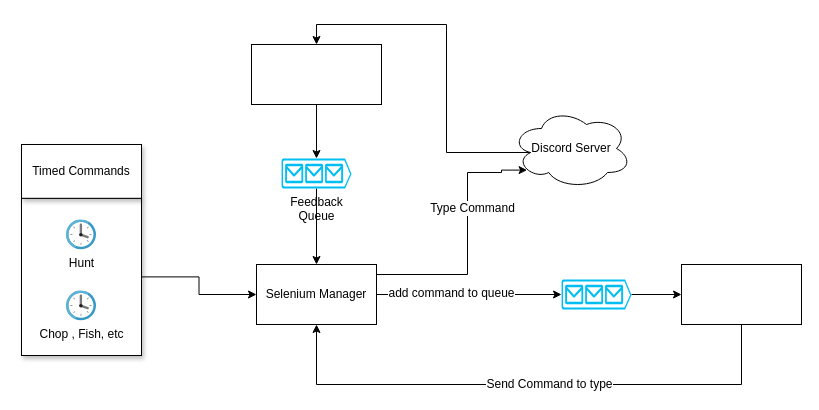
Some shapes in this 819 by 410 pixel diagram are drawn without their labels. The shapes that lost their labels are listed below. From the top down, each one's centre as x and y in pixels, then its label:
At point 316,74: "Discord Chat Listener".
At point 596,294: "Command Queue".
At point 741,294: "Command Worker".
